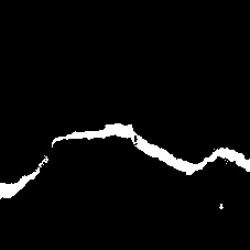crack: (1, 123, 249, 199)
pinhole: (209, 200, 227, 215)
